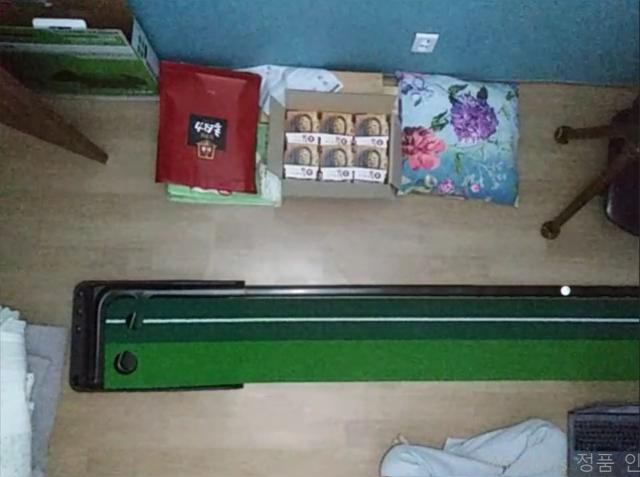golf_ball: (560, 285, 571, 297)
green_zone: (105, 299, 640, 389)
hole: (113, 350, 139, 376), (126, 312, 143, 331)
